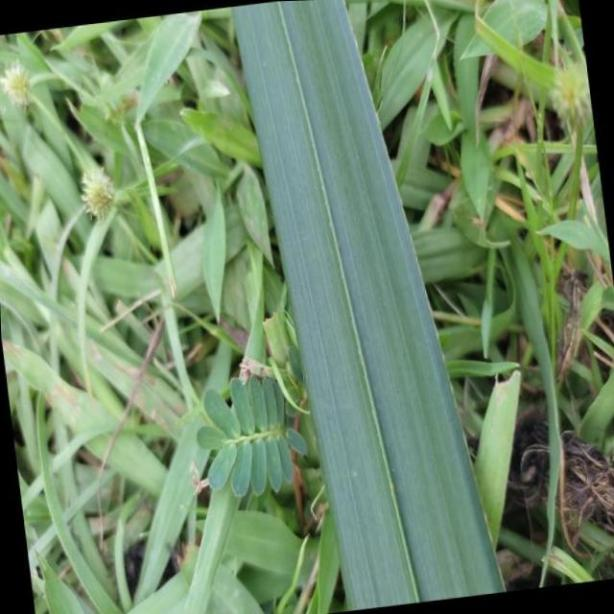Healthy: (225, 5, 507, 614)
